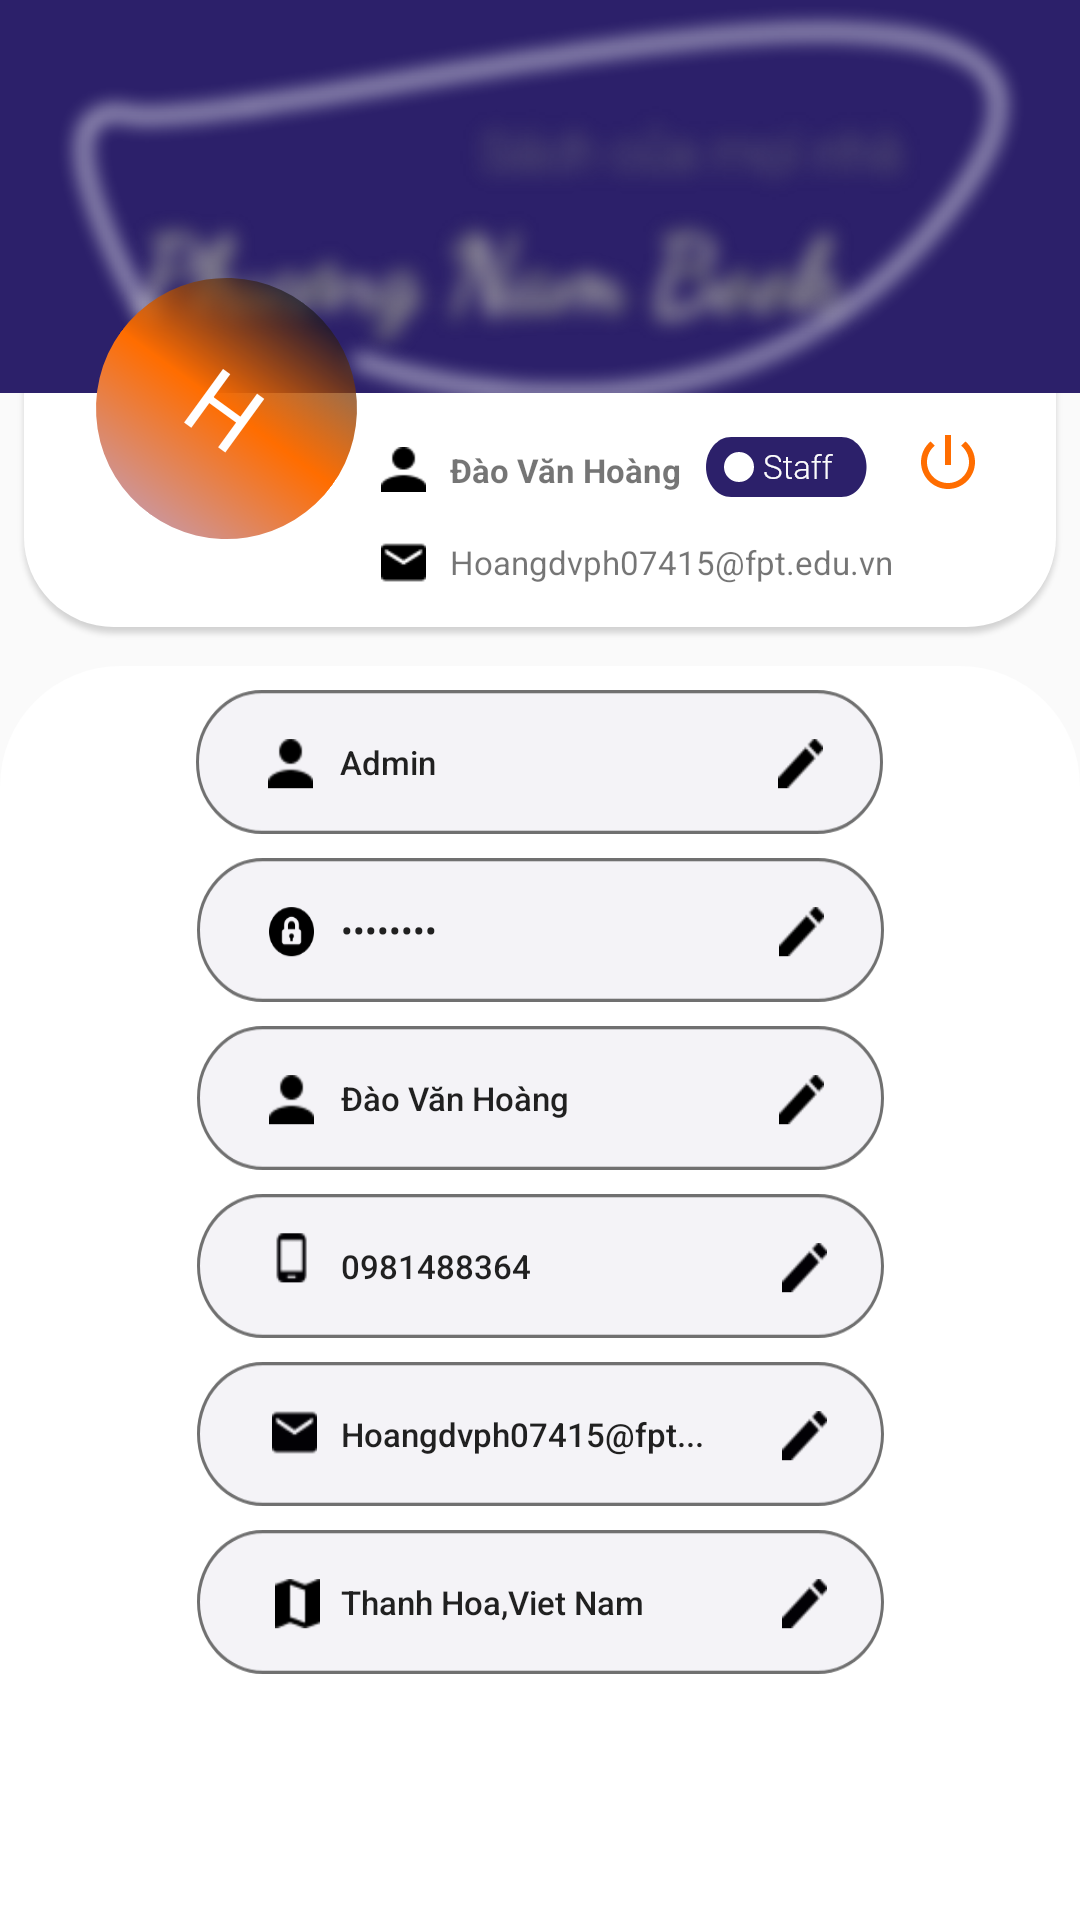

Icon click points for this 1080px x 1920px phone screenshot, format (x=x, y=y):
mail item: (x=403, y=562)
power settings: (x=948, y=462)
